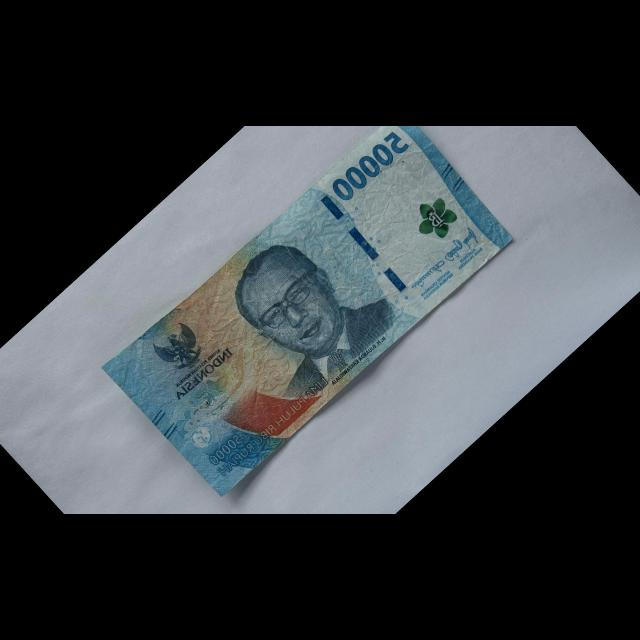Palsu-50k: (96, 101, 518, 505)
Tinta-Palsu-50k: (405, 190, 463, 248)
